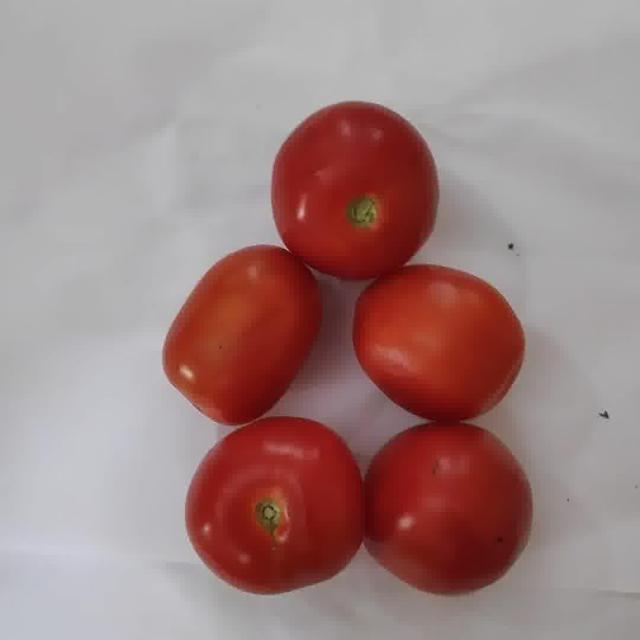Tomato: (186, 418, 359, 593), (272, 103, 438, 280), (163, 246, 321, 425), (365, 424, 530, 593), (352, 266, 523, 421)
